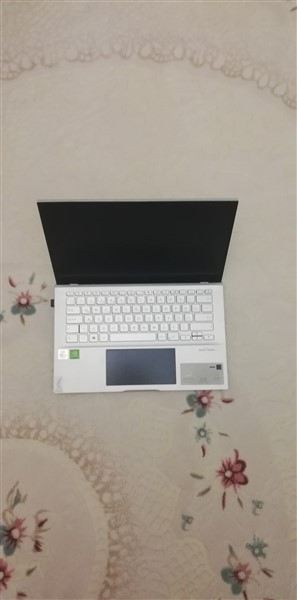laptop: (35, 197, 243, 396)
